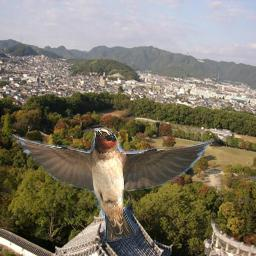Swallow: (8, 127, 214, 242)
